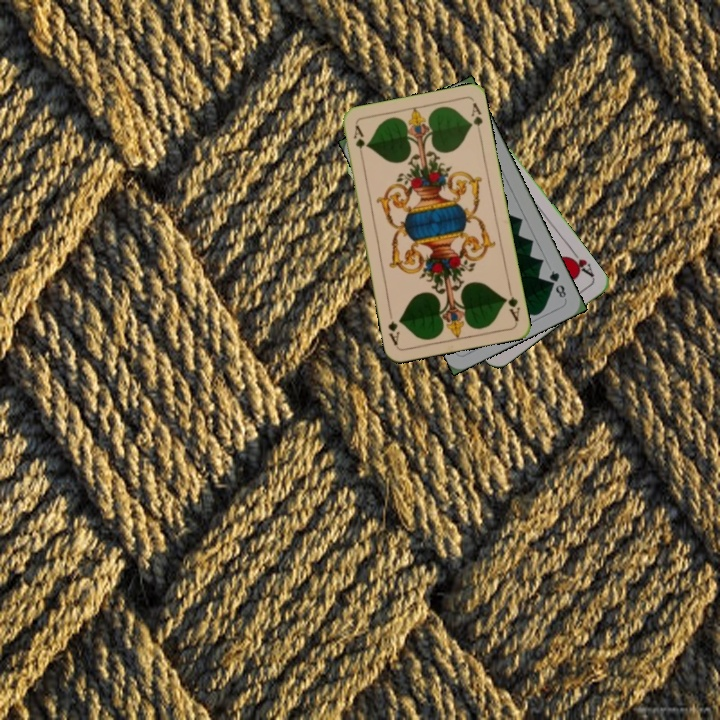G8: (545, 266, 569, 301)
GA: (500, 283, 523, 323), (349, 121, 367, 161)
HA: (563, 245, 597, 280)
